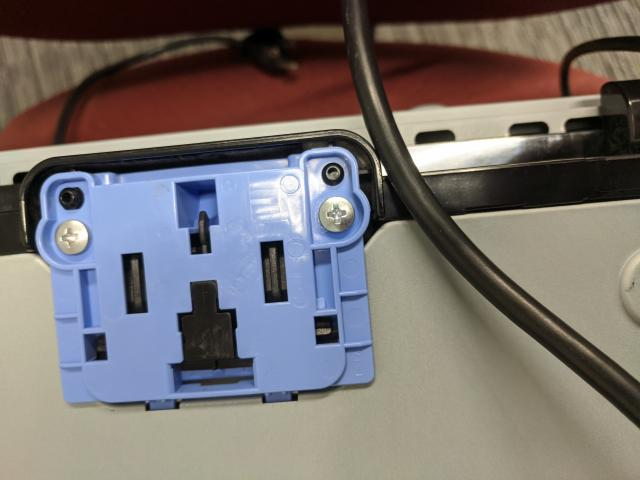CRS: (318, 195, 354, 233), (55, 219, 91, 255)
